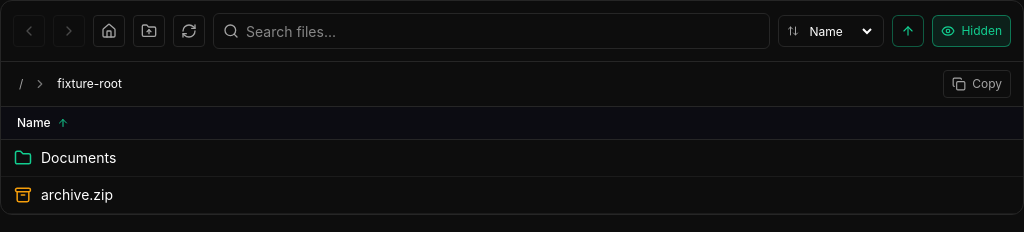
Test: FileExplorer › filters visible nodes by search query
Step 1. Type "archive" into the field with placeholder "Search files..." → point(492, 31), box [213,13,770,49]
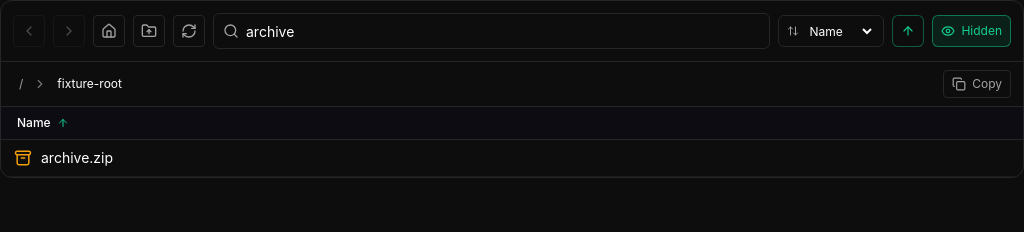
Expected: the text "archive.zip" is shown, [41,148,113,168]
Result: the button "Documents" is gone
